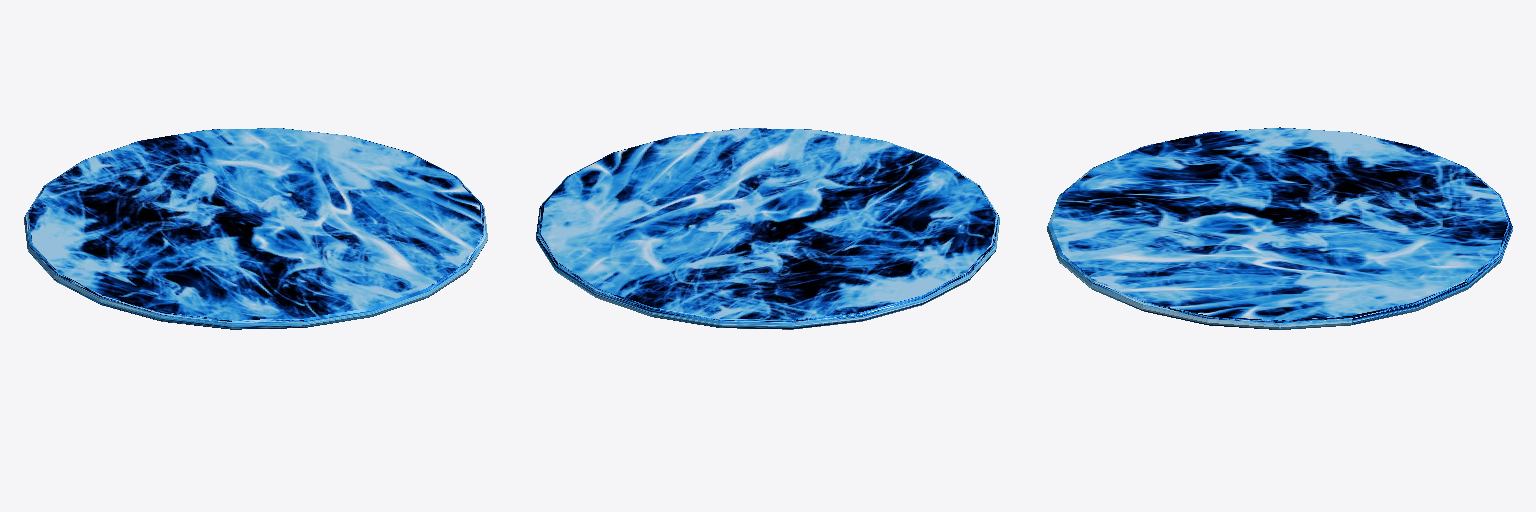
The picture shows the model from 3 angles: view 1: azimuth 30°, elevation 25°; view 2: azimuth 150°, elevation 25°; view 3: azimuth 270°, elevation 25°; orthographic projection.
Visible parts, largest first — view 1: pCylinder1; view 2: pCylinder1; view 3: pCylinder1.
Part boxes in pixels (left/top/right/bottom): pCylinder1: left=24, top=128, right=487, bottom=329; pCylinder1: left=536, top=128, right=999, bottom=329; pCylinder1: left=1047, top=127, right=1512, bottom=329.
Bounding box in the file's own units: 0.8597 × 0.1324 × 0.8597.
1 materials, 1 textured.